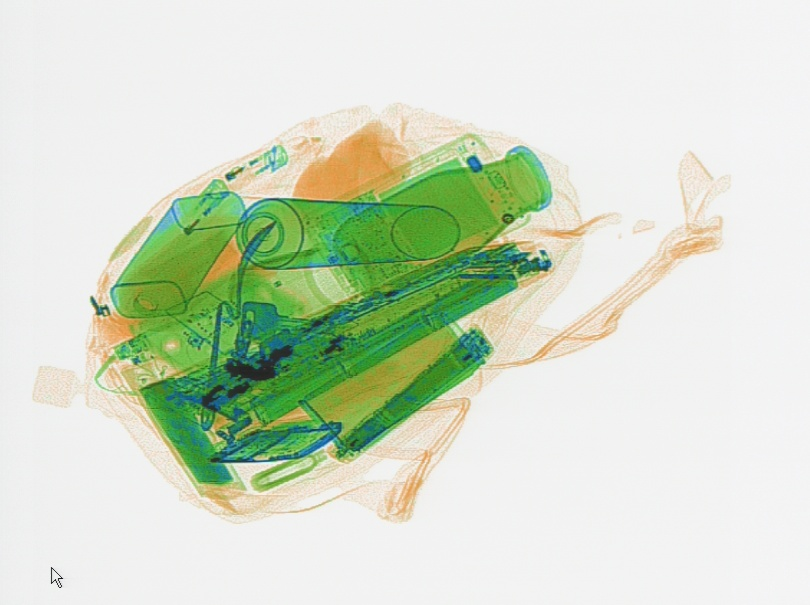lighter: (154, 177, 229, 252), (190, 142, 288, 199)
pressure: (204, 193, 462, 270)
zippooil: (108, 188, 248, 318)
